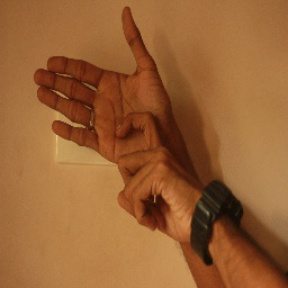R: (33, 5, 182, 221)
